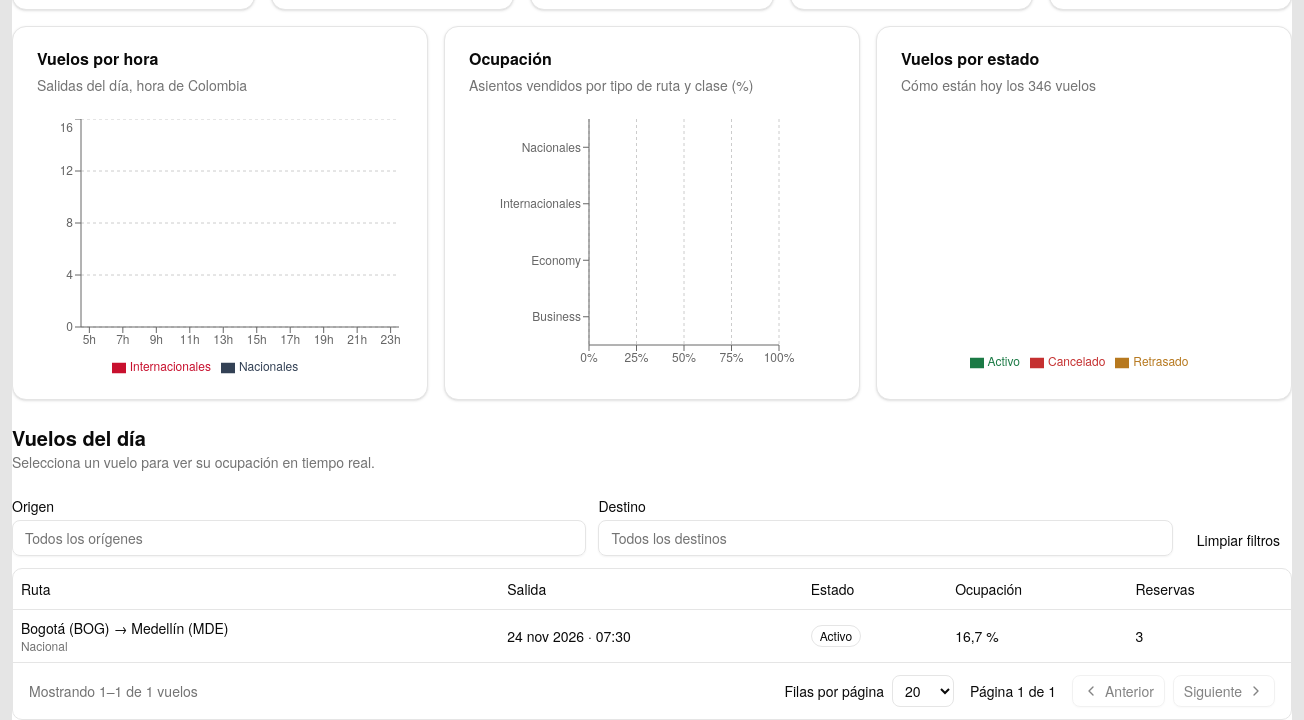
Test: DashboardPage › shows live seat counts for the selected flight and updates them on a WS event
(page scrolled)
Click the text "Bogotá (BOG) → Medellín (MDE)" at coordinates (125, 628), box [21,618,228,638]
(page scrolled)
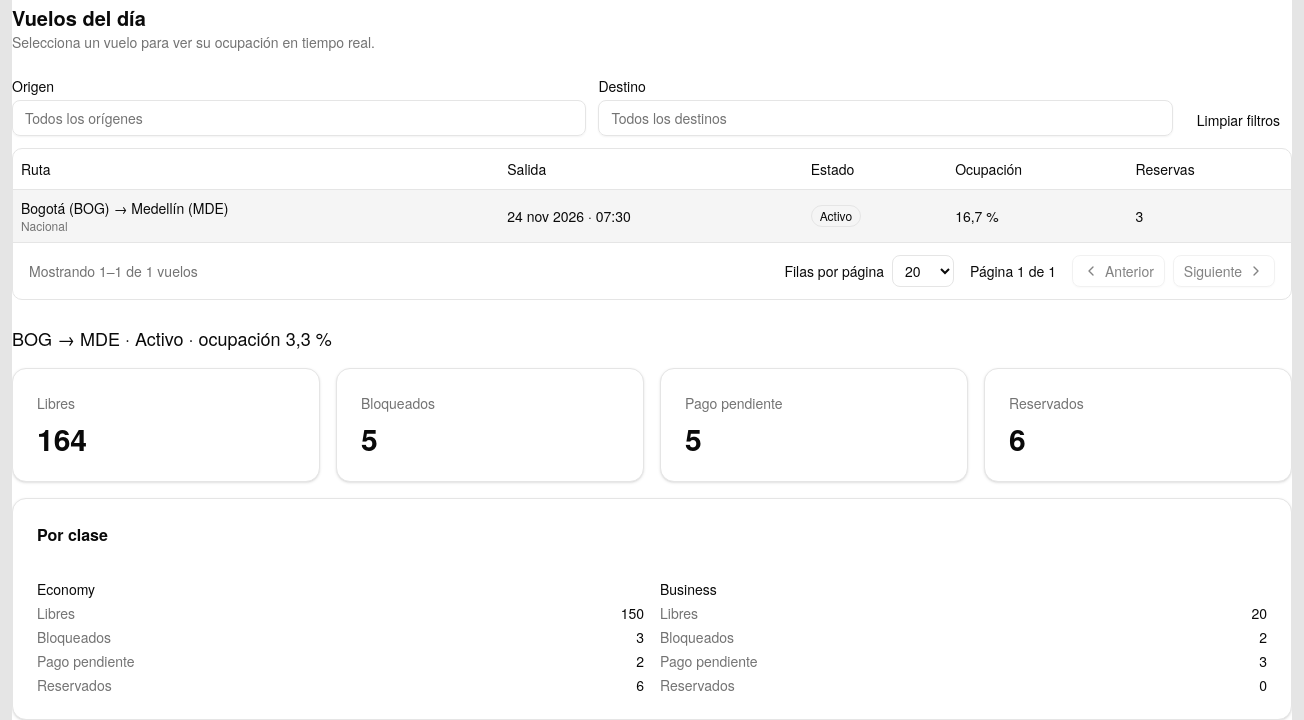
Expected: the text "6" in the row of "164" is shown, [1009,416,1026,460]
